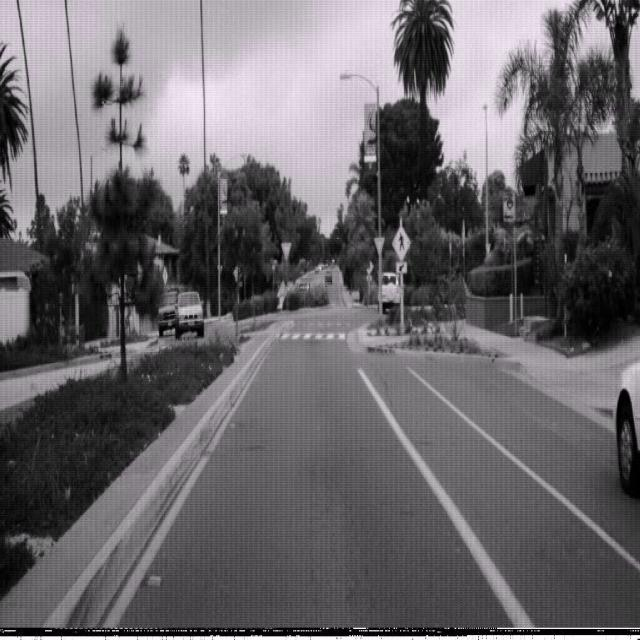pedestrianCrossing: (391, 224, 411, 262)
yield: (373, 234, 385, 256), (280, 240, 291, 261)
